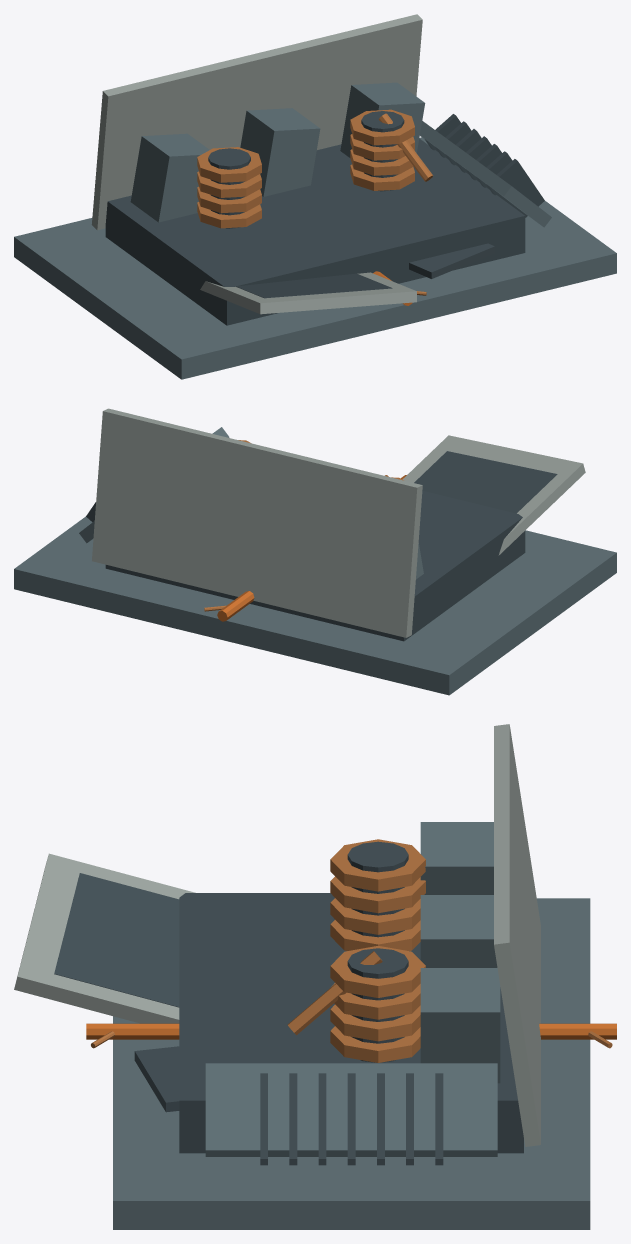
Rendered from solar_power_station_d3.glb.
The picture shows the model from 3 angles, top to bottom: view 1: azimuth 30°, elevation 25°; view 2: azimuth 150°, elevation 25°; view 3: azimuth 270°, elevation 25°; orthographic projection. The views are drawn at different scales.
Parts seen in each view (by area): view 1: SOLAR_GAME_MESH; view 2: SOLAR_GAME_MESH; view 3: SOLAR_GAME_MESH.
Part boxes in pixels (box(x1,y1,x2,y2)): SOLAR_GAME_MESH: box(14, 14, 616, 379); SOLAR_GAME_MESH: box(14, 408, 616, 695); SOLAR_GAME_MESH: box(14, 724, 616, 1229).
Size of the model in its own units: 5.4 by 2.04 by 4.55.
